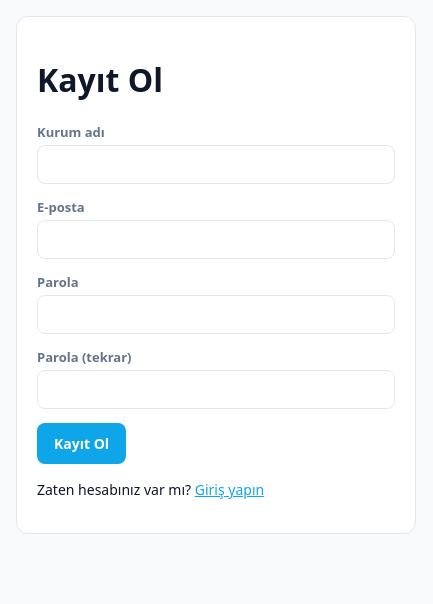
Test: Register › parolalar eşleşmiyorsa API HİÇ ÇAĞRILMAZ, yerel hata gösterilir
The image size is (433, 604).
In the field labelled "Kurum adı": [216, 164] box top-left (37, 145), bottom-right (395, 184), type "Test Belediyesi"
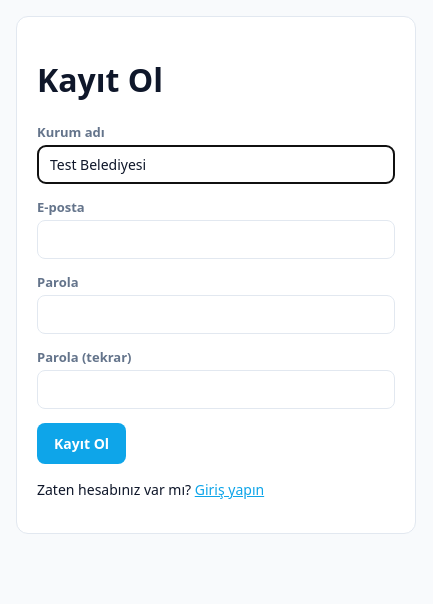
In the field labelled "E-posta": [216, 239] box top-left (37, 220), bottom-right (395, 259), type "test@example.com"
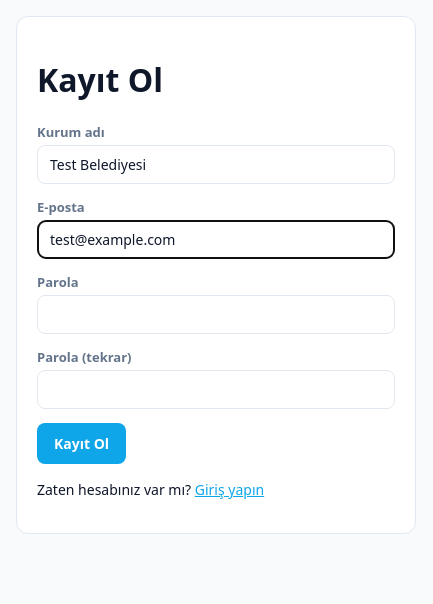
In the password field labelled "Parola": [216, 314] box top-left (37, 295), bottom-right (395, 334), type "parola123"
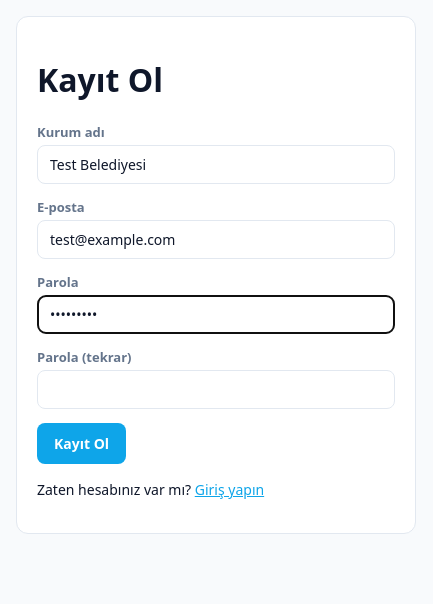
In the password field labelled "Parola (tekrar)": [216, 389] box top-left (37, 370), bottom-right (395, 409), type "baskaParola"
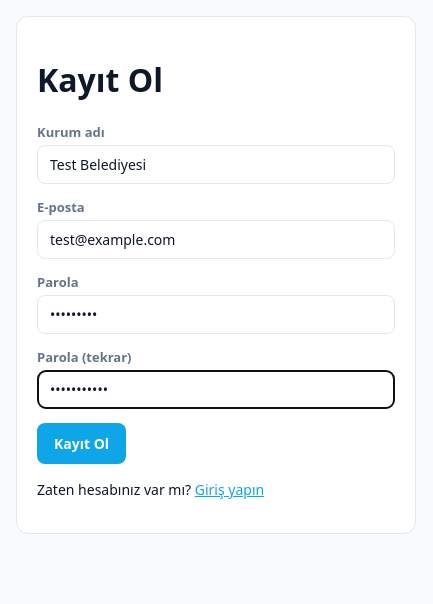
Click the button "Kayıt Ol": [82, 443] box top-left (37, 423), bottom-right (126, 464)
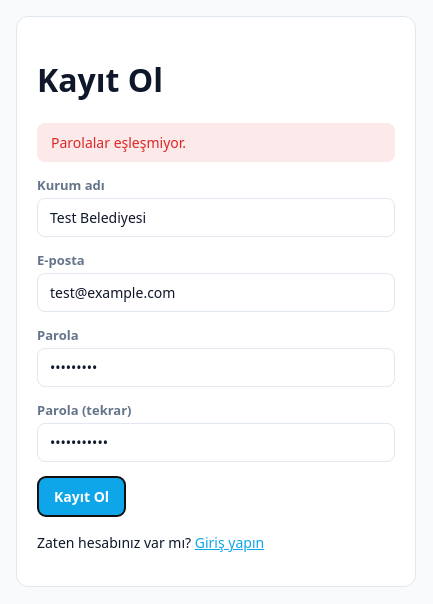
Now the message reads "Parolalar eşleşmiyor.", box top-left (51, 133), bottom-right (186, 152)
